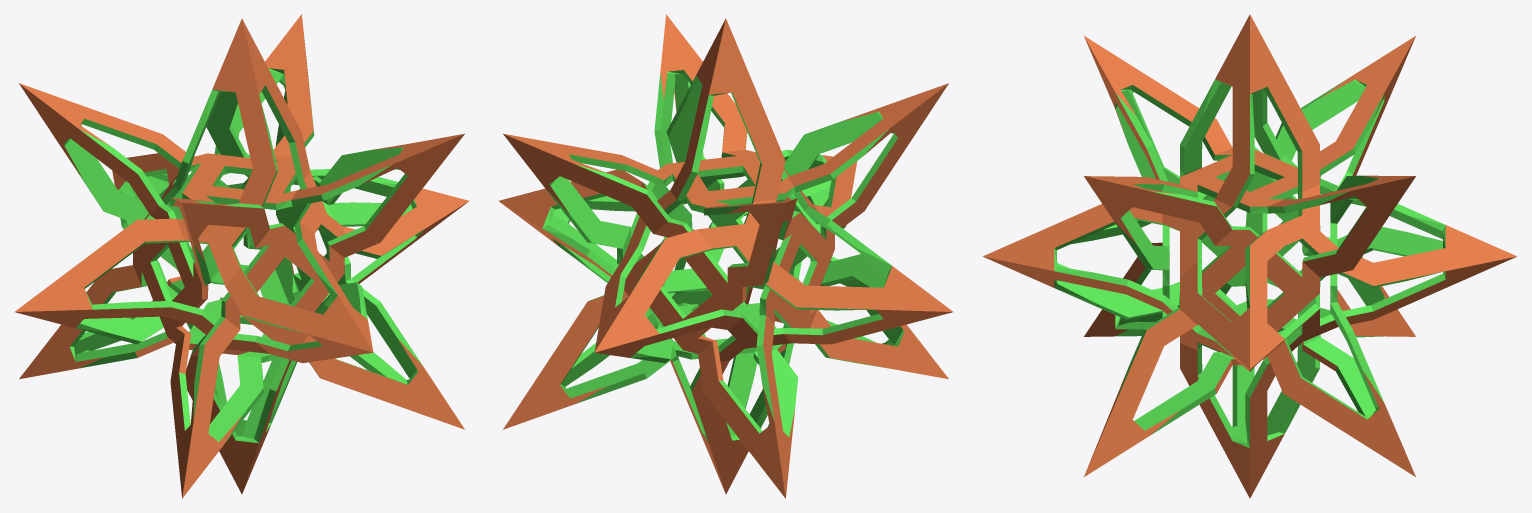
Rendered from StarPolyknotCuboctahedron1.glb.
The picture shows the model from 3 angles, left to right: view 1: azimuth 30°, elevation 25°; view 2: azimuth 150°, elevation 25°; view 3: azimuth 270°, elevation 25°; orthographic projection.
Visible parts, largest first — view 1: OK_ESCHER_BBBa_A2; view 2: OK_ESCHER_BBBa_A2; view 3: OK_ESCHER_BBBa_A2.
Part boxes in pixels (x1=…): OK_ESCHER_BBBa_A2: x1=15, y1=14, x2=468, y2=498; OK_ESCHER_BBBa_A2: x1=499, y1=14, x2=952, y2=498; OK_ESCHER_BBBa_A2: x1=982, y1=14, x2=1517, y2=498.
Bounding box in the file's own units: 150 × 150 × 150.
